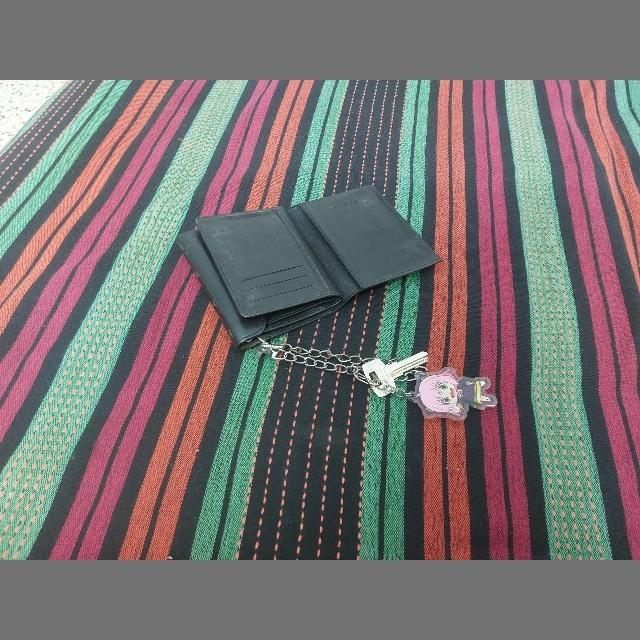Wallet: (145, 172, 492, 348)
